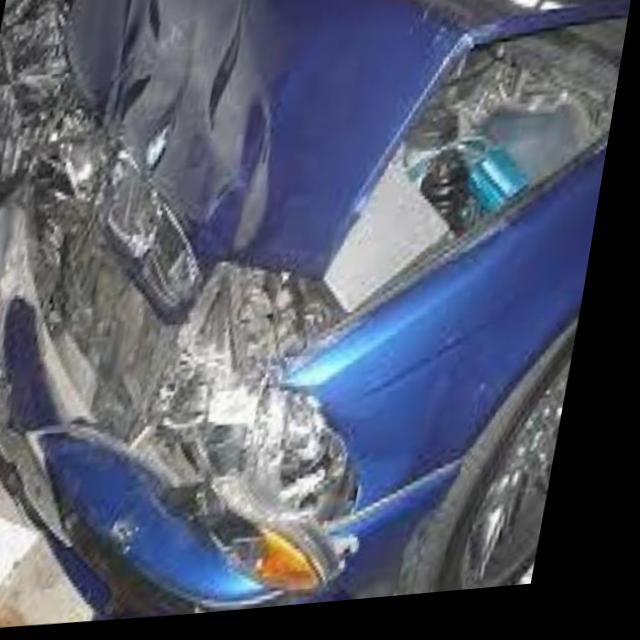crash: (0, 0, 483, 596)
